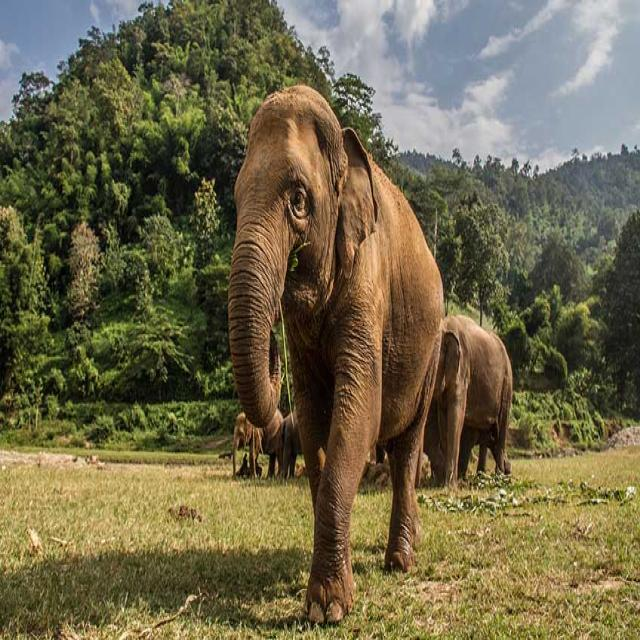Elephant: (227, 50, 434, 624), (432, 274, 532, 486)
